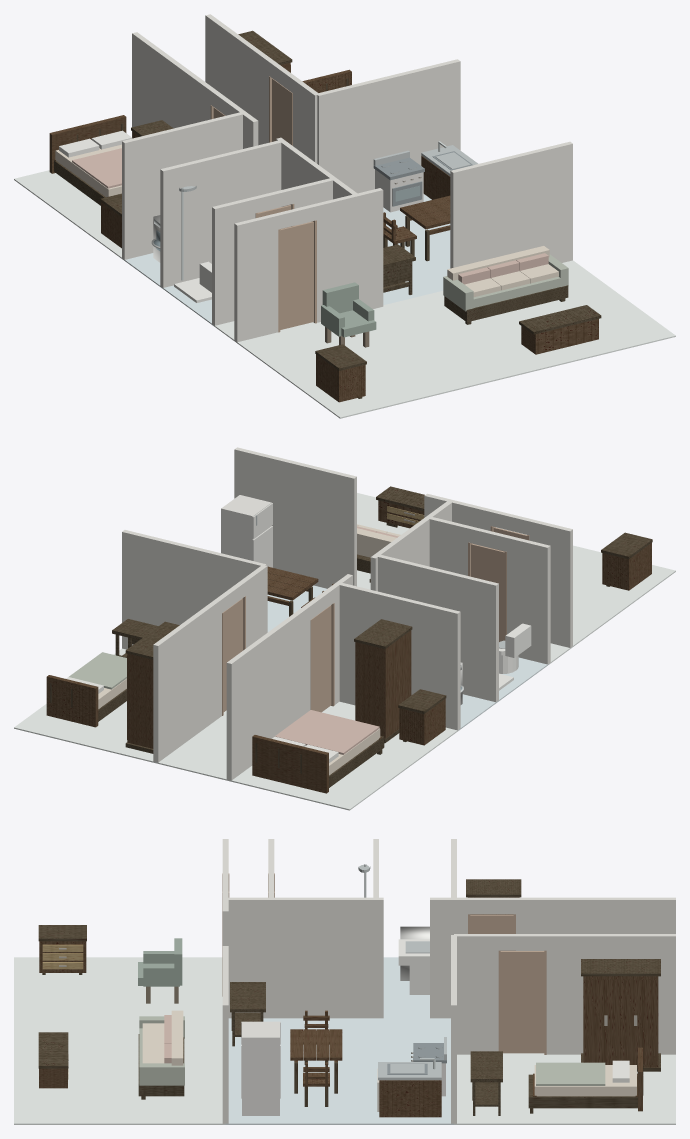
3 renders of one model, top to bottom at view 1: azimuth 30°, elevation 25°; view 2: azimuth 150°, elevation 25°; view 3: azimuth 270°, elevation 25°, orthographic.
Visible parts, largest first — view 1: H33_FLOOR_00_SALA_/_ENTRADA, H33_WALL_08, H33_WALL_00, H33_WALL_07, H33_WALL_09, H33_WALL_01, H33_WALL_02, H33_WALL_13, H33_WALL_11, H33_DOOR_00_LEAF, H33_WALL_06, H33_FLOOR_01_COZINHA_/_REFEICOES (+29 smaller); view 2: H33_WALL_00, H33_WALL_13, H33_WALL_09, H33_WALL_08, H33_WALL_11, H33_WALL_07, H33_FLOOR_00_SALA_/_ENTRADA, H33_FLOOR_07_QUARTO_CASAL, H33_WALL_06, H33_FURN_20_wardrobe__06__corpo, H33_WALL_02, H33_FLOOR_05_QUARTO_02 (+34 smaller); view 3: H33_FLOOR_00_SALA_/_ENTRADA, H33_WALL_03, H33_FLOOR_01_COZINHA_/_REFEICOES, H33_WALL_11, H33_FLOOR_05_QUARTO_02, H33_WALL_13, H33_WALL_10, H33_DOOR_02_LEAF, H33_FURN_04_fridge__05__gabinete, H33_FURN_17_wardrobe__03__porta_direita, H33_FURN_17_wardrobe__04__porta_esquerda, H33_WALL_04 (+33 smaller).
Boxes of the visible parts, bbox=[...] form: H33_FLOOR_00_SALA_/_ENTRADA: bbox=[236, 260, 675, 418]; H33_WALL_08: bbox=[316, 59, 460, 193]; H33_WALL_00: bbox=[450, 141, 572, 268]; H33_WALL_07: bbox=[160, 140, 283, 287]; H33_WALL_09: bbox=[122, 111, 244, 259]; H33_WALL_01: bbox=[313, 188, 383, 322]; H33_WALL_02: bbox=[234, 213, 278, 342]; H33_WALL_13: bbox=[132, 32, 215, 137]; H33_WALL_11: bbox=[205, 14, 274, 145]; H33_DOOR_00_LEAF: bbox=[280, 221, 313, 329]; H33_WALL_06: bbox=[212, 197, 256, 325]; H33_FLOOR_01_COZINHA_/_REFEICOES: bbox=[383, 194, 450, 304]; H33_WALL_00: bbox=[234, 447, 356, 588]; H33_WALL_13: bbox=[226, 604, 310, 780]; H33_WALL_09: bbox=[337, 583, 460, 730]; H33_WALL_08: bbox=[122, 530, 266, 649]; H33_WALL_11: bbox=[153, 597, 222, 762]; H33_WALL_07: bbox=[376, 554, 498, 702]; H33_FLOOR_00_SALA_/_ENTRADA: bbox=[357, 493, 675, 647]; H33_FLOOR_07_QUARTO_CASAL: bbox=[229, 701, 458, 810]; H33_WALL_06: bbox=[506, 535, 550, 664]; H33_FURN_20_wardrobe__06__corpo: bbox=[355, 630, 411, 738]; H33_WALL_02: bbox=[528, 519, 572, 647]; H33_FLOOR_05_QUARTO_02: bbox=[14, 648, 155, 762]; H33_FLOOR_00_SALA_/_ENTRADA: bbox=[14, 957, 225, 1124]; H33_WALL_03: bbox=[228, 897, 383, 1018]; H33_FLOOR_01_COZINHA_/_REFEICOES: bbox=[225, 1017, 453, 1124]; H33_WALL_11: bbox=[545, 934, 675, 1054]; H33_FLOOR_05_QUARTO_02: bbox=[454, 1053, 675, 1124]; H33_WALL_13: bbox=[514, 897, 675, 950]; H33_WALL_10: bbox=[454, 934, 499, 1054]; H33_DOOR_02_LEAF: bbox=[500, 951, 544, 1053]; H33_FURN_04_fridge__05__gabinete: bbox=[242, 1021, 279, 1115]; H33_FURN_17_wardrobe__03__porta_direita: bbox=[583, 979, 620, 1064]; H33_FURN_17_wardrobe__04__porta_esquerda: bbox=[621, 979, 658, 1065]; H33_WALL_04: bbox=[430, 897, 453, 1018].
Bounding box in the file's own units: 7.32 × 2.46 × 12.32.
21 materials, 3 textured.
